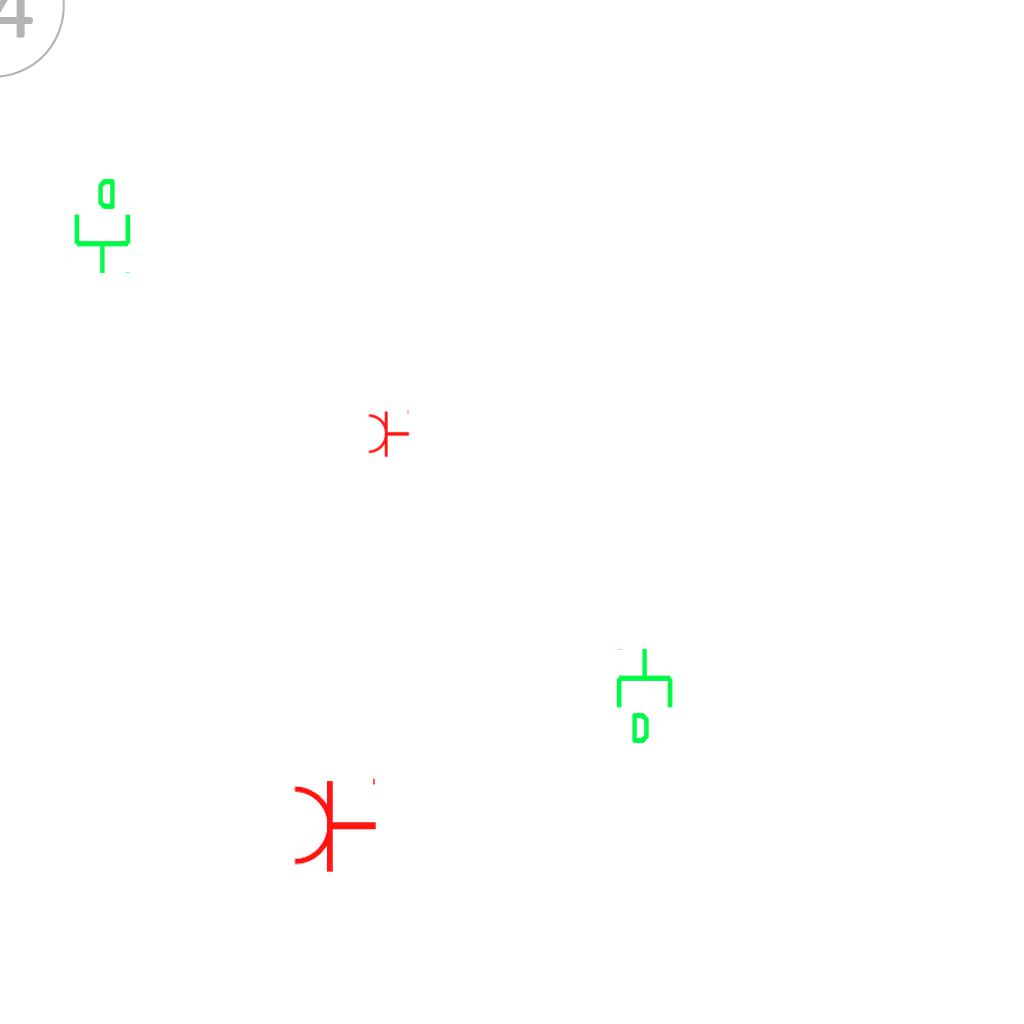Datenanschluss_einfach: (66, 176, 135, 276), (612, 646, 681, 746)
Schukosteckdose_einfach: (291, 774, 378, 874), (367, 408, 410, 458)
